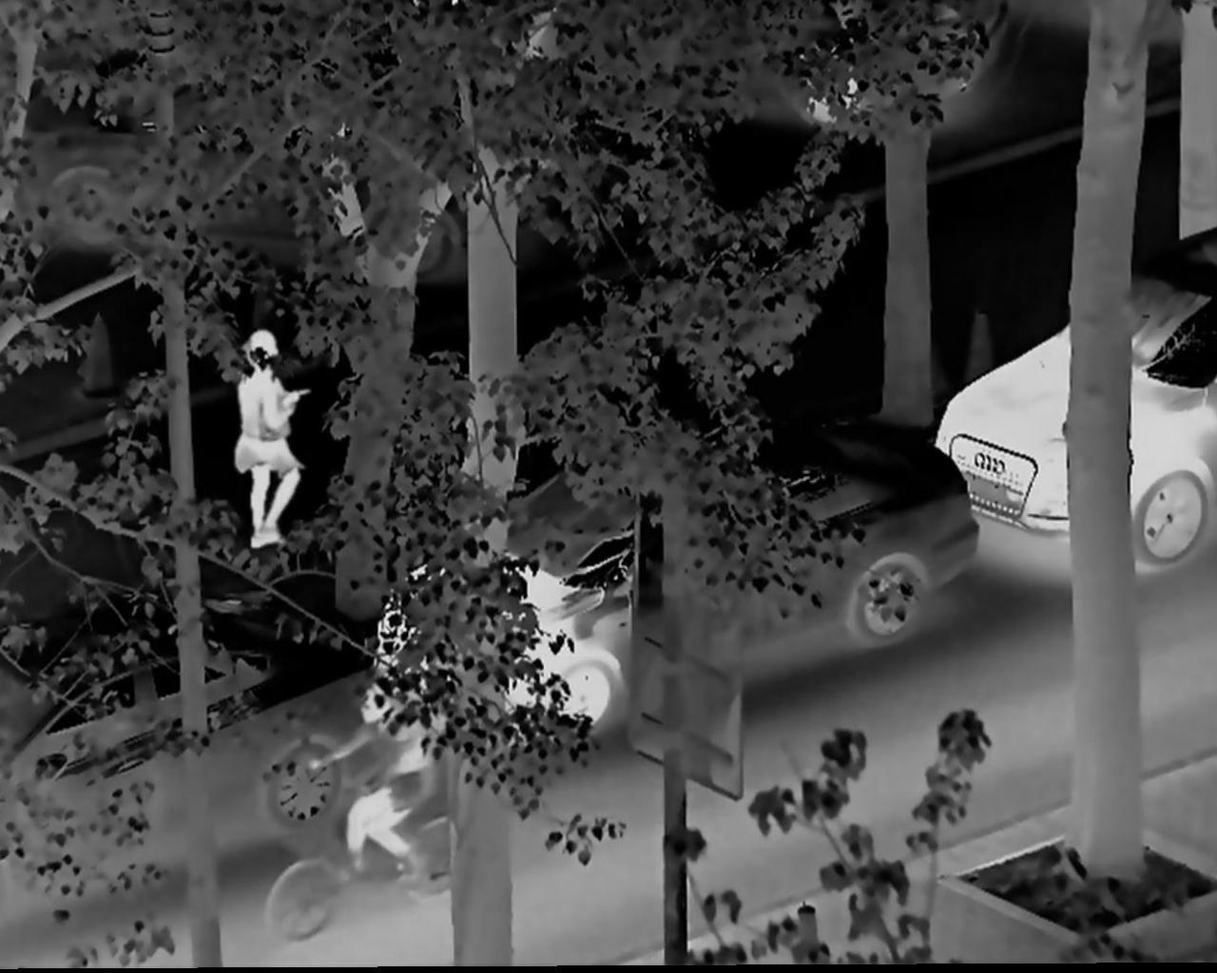person: (318, 682, 432, 905), (217, 322, 316, 562)
